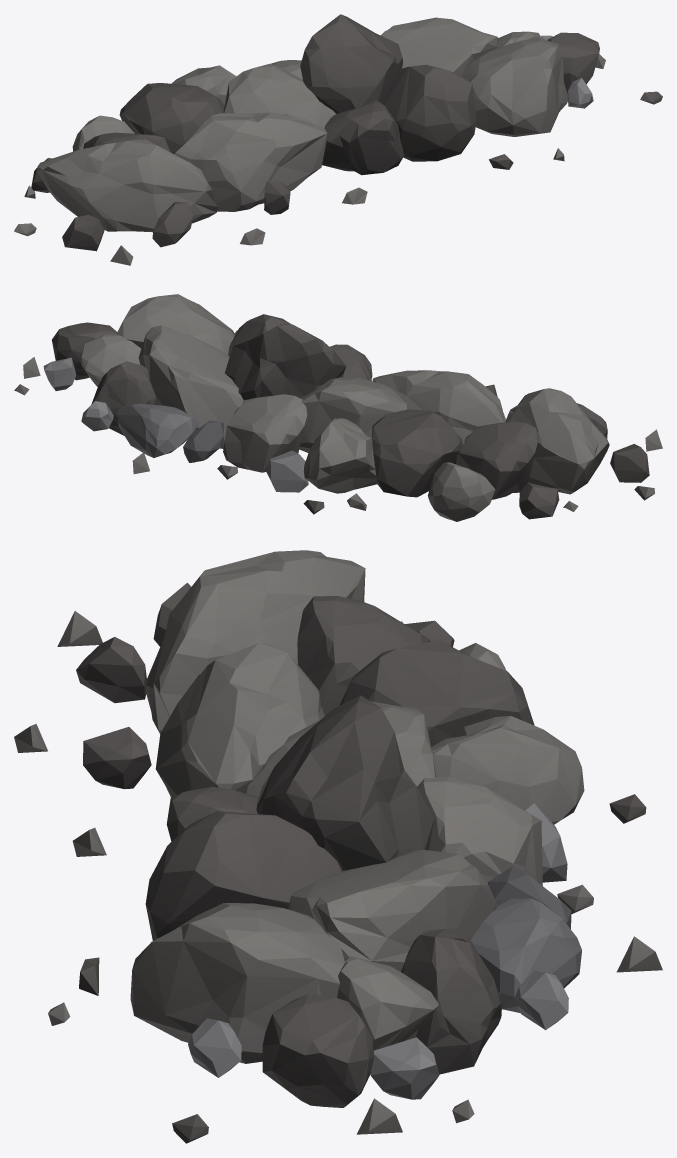
File: ZLPC_Rock_E_1.FBX
3 renders of one model, top to bottom at view 1: azimuth 30°, elevation 25°; view 2: azimuth 150°, elevation 25°; view 3: azimuth 270°, elevation 25°, orthographic. The views are drawn at different scales.
Parts seen in each view (by area): view 1: ZLPC_Rock_E_1; view 2: ZLPC_Rock_E_1; view 3: ZLPC_Rock_E_1.
Part boxes in pixels (<box>): ZLPC_Rock_E_1: <box>14,14,662,265</box>; ZLPC_Rock_E_1: <box>14,294,662,521</box>; ZLPC_Rock_E_1: <box>14,550,662,1143</box>.
Size of the model in its own units: 876 by 174 by 437.
Materials: 1 (1 with a texture image).
